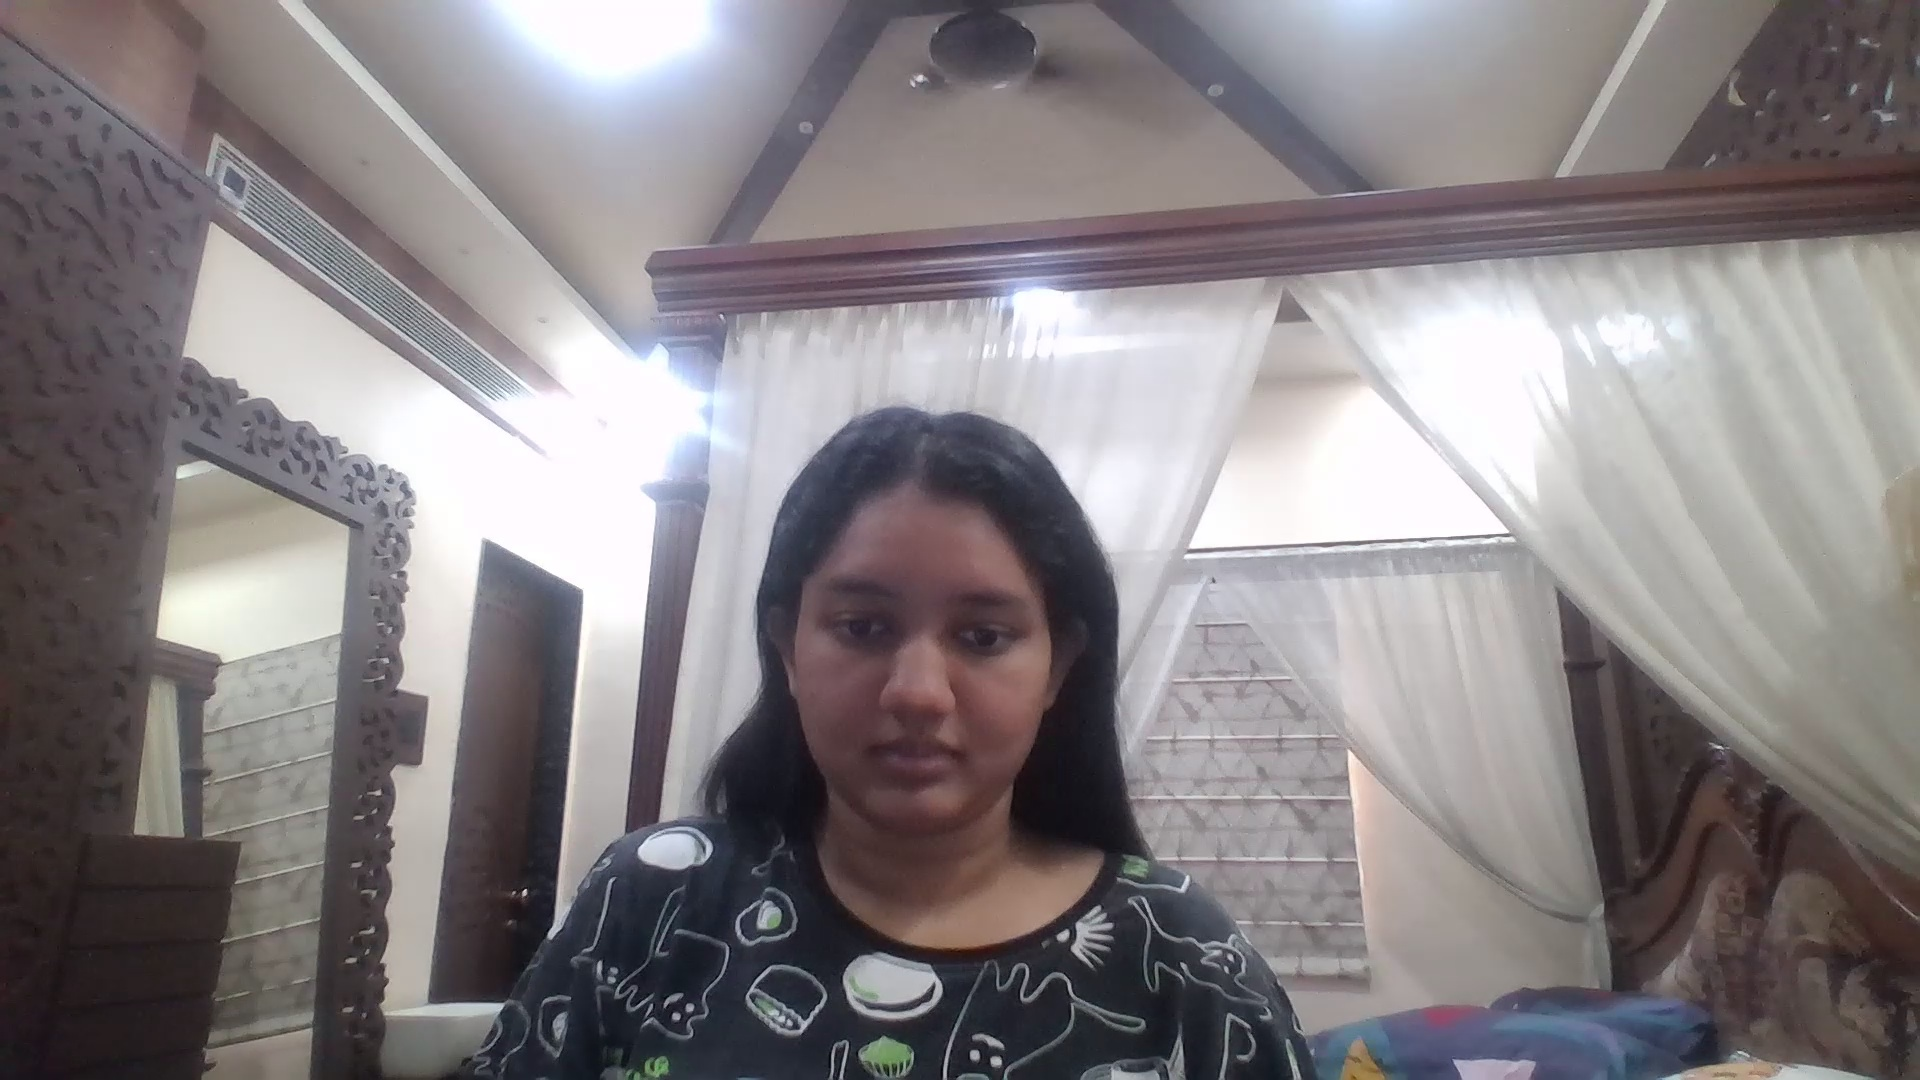No Mask: (800, 672, 1032, 834)
